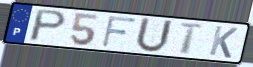5: (70, 11, 101, 47)
F: (100, 15, 139, 49)
K: (207, 24, 240, 60)
P: (26, 8, 69, 43)
T: (177, 21, 206, 56)
U: (133, 16, 175, 54)
